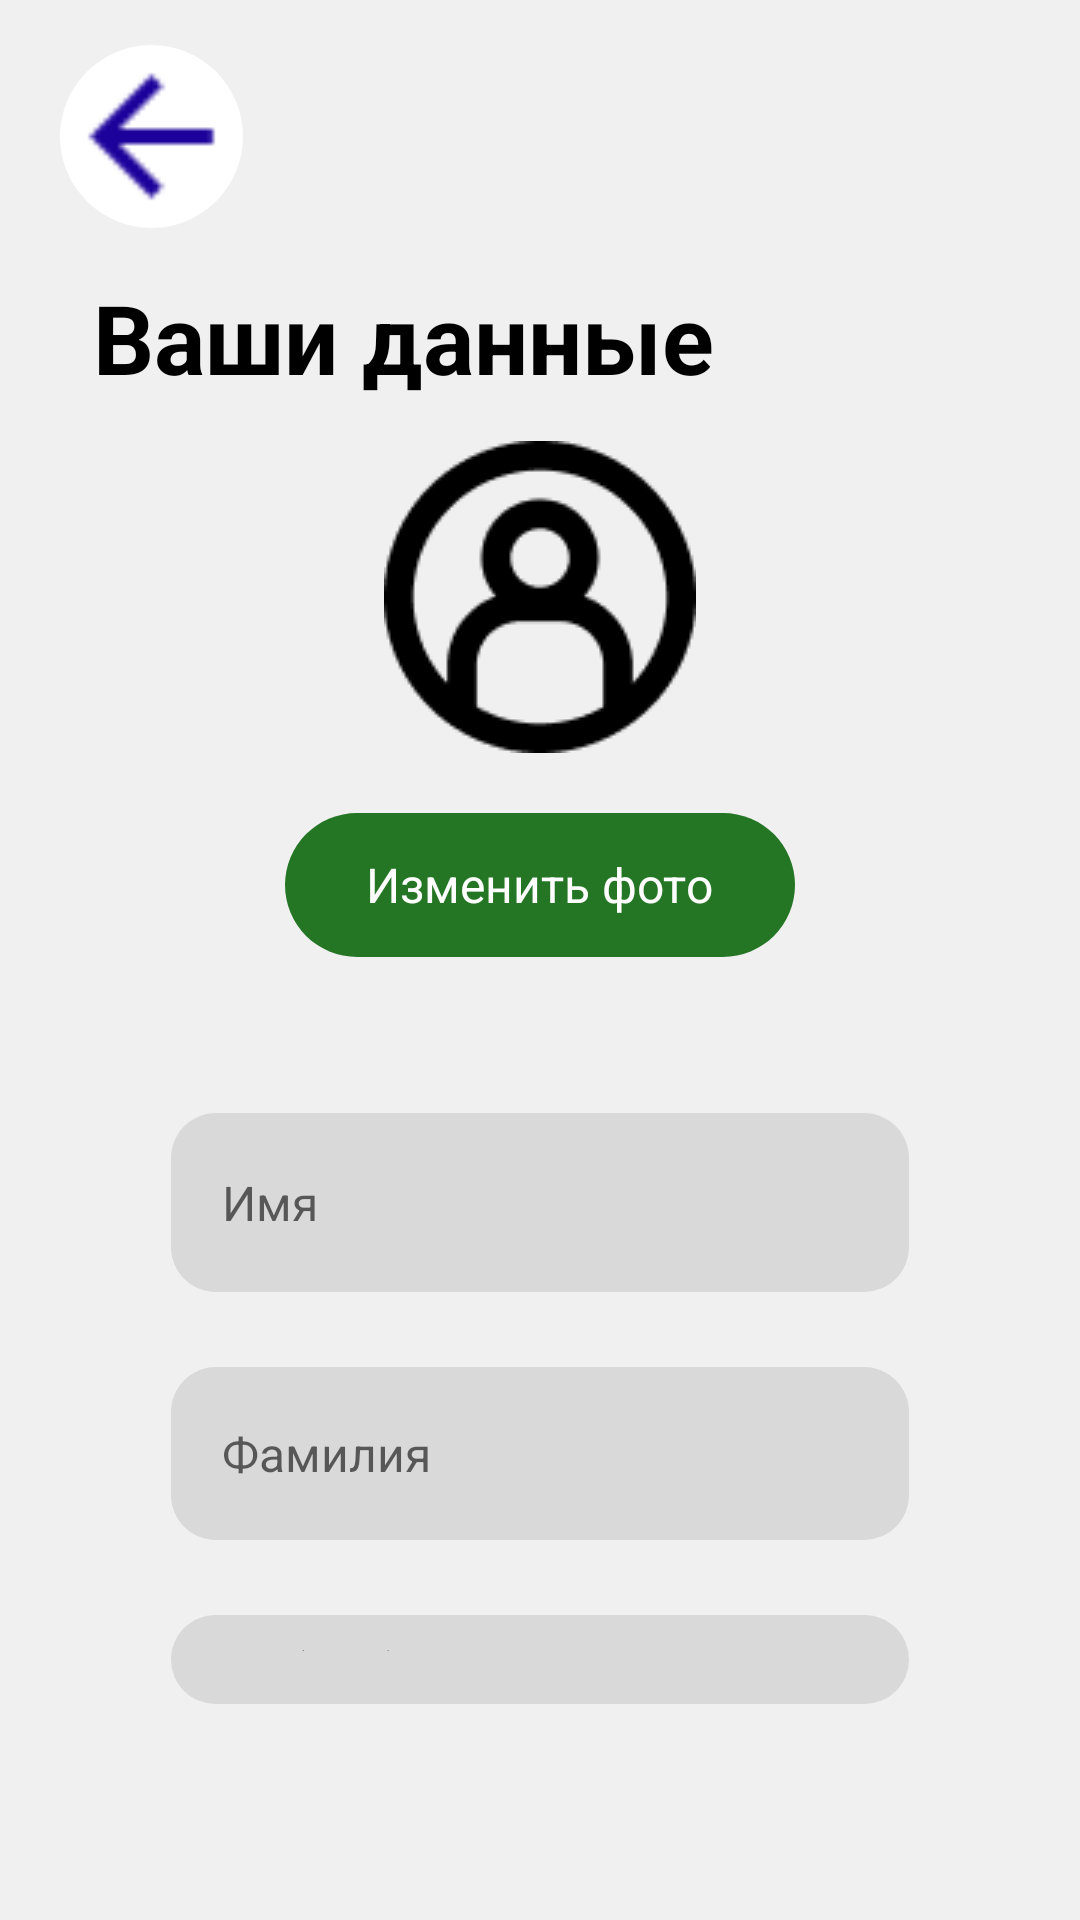

Locate icon controls on the screen. Image size 1080 x 1920, boxes as (x1=x1, y1=y1, x2=x2, y2=y2).
back: (x1=60, y1=45, x2=243, y2=228)
pajamas profile: (x1=384, y1=441, x2=696, y2=753)
